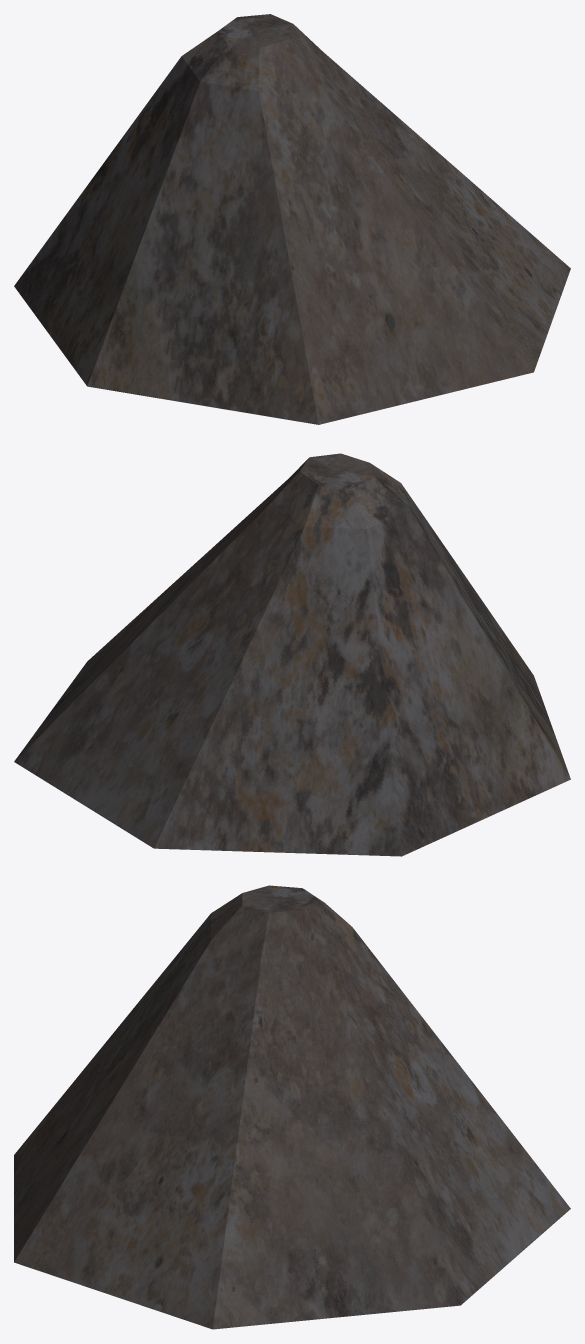
The model's file is rock3.glb.
3 renders of one model, top to bottom at view 1: azimuth 30°, elevation 25°; view 2: azimuth 150°, elevation 25°; view 3: azimuth 270°, elevation 25°, orthographic. The views are drawn at different scales.
Visible parts, largest first — view 1: Cylinder; view 2: Cylinder; view 3: Cylinder.
Part boxes in pixels (x1=…): Cylinder: x1=14, y1=14, x2=570, y2=424; Cylinder: x1=14, y1=453, x2=570, y2=856; Cylinder: x1=14, y1=885, x2=570, y2=1329.
Size of the model in its own units: 8.83 by 4.98 by 8.61.
1 material, 1 textured.
